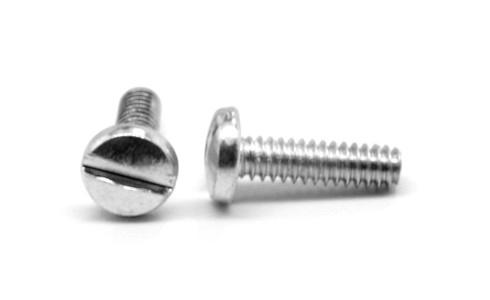slotted: (80, 123, 178, 223)
